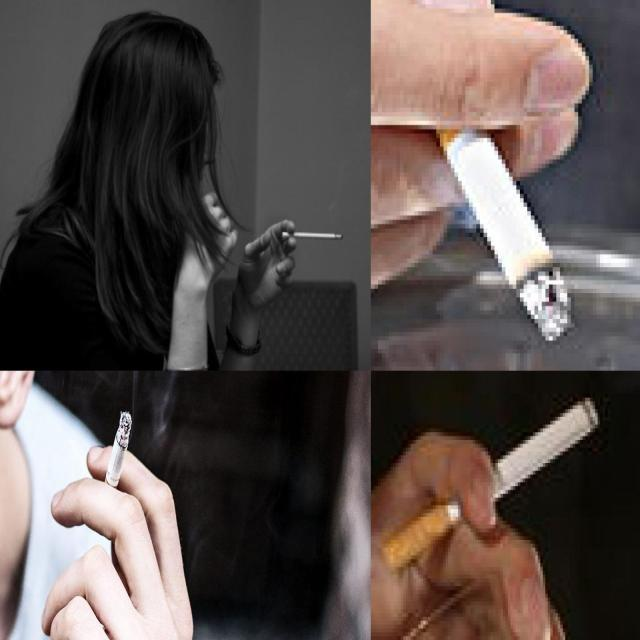smoking: (425, 90, 575, 344), (383, 394, 598, 571), (98, 410, 134, 508), (282, 230, 344, 242)
